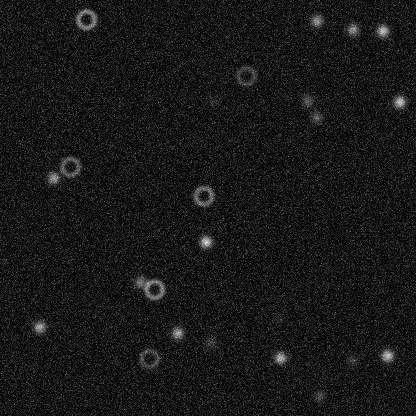Ring: (74, 7, 98, 31), (233, 63, 257, 87), (142, 277, 166, 301), (191, 183, 215, 207), (137, 346, 161, 370), (58, 154, 82, 178)
Spot: (311, 387, 327, 403), (379, 347, 395, 363), (308, 12, 324, 28), (299, 92, 315, 108), (344, 21, 360, 37), (204, 92, 220, 108), (197, 233, 213, 249), (202, 333, 218, 349), (169, 324, 185, 340), (132, 274, 148, 290), (374, 22, 390, 38), (270, 310, 286, 326), (272, 349, 288, 365), (391, 93, 407, 109), (308, 109, 324, 125), (45, 169, 61, 185), (344, 352, 360, 368), (31, 318, 47, 334)
